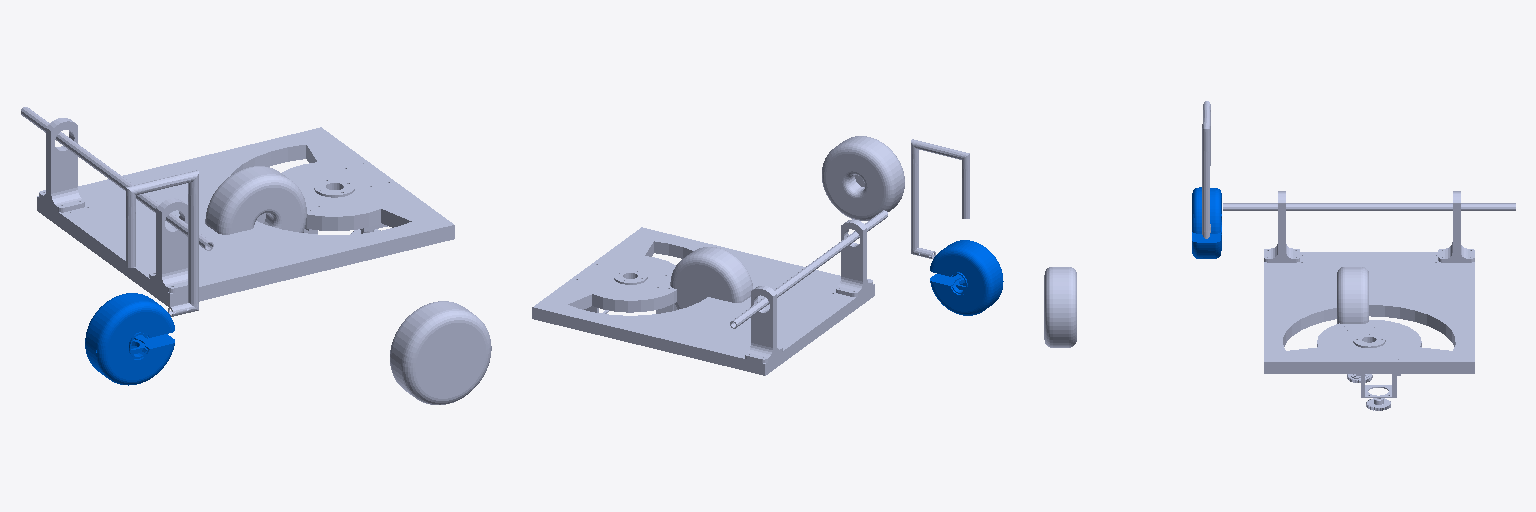
The robot description file, URDF, robot "Tricycle_HEW_URDF":
<?xml version="1.0" encoding="utf-8"?>
<!-- This URDF was automatically created by SolidWorks to URDF Exporter! Originally created by [author] ([email redacted]) 
     Commit Version: 1.5.1-0-g916b5db  Build Version: 1.5.7152.31018
     For more information, please see http://wiki.ros.org/sw_urdf_exporter -->
<robot
  name="Tricycle_HEW_URDF">
  <link
    name="base_link">
    <inertial>
      <origin
        xyz="0.0179147475198466 0.00819042349452611 -5.19073115833841E-05"
        rpy="0 0 0" />
      <mass
        value="2.40036266027336" />
      <inertia
        ixx="0.0213869024496027"
        ixy="1.89991849092823E-09"
        ixz="1.44203262798969E-06"
        iyy="0.0542879227223958"
        iyz="1.97467103185079E-08"
        izz="0.0333136909388032" />
    </inertial>
    <visual>
      <origin
        xyz="0 0 0"
        rpy="0 0 0" />
      <geometry>
        <mesh
          filename="package://Tricycle_HEW_URDF/meshes/base_link.STL" />
      </geometry>
      <material
        name="">
        <color
          rgba="0.792156862745098 0.819607843137255 0.933333333333333 1" />
      </material>
    </visual>
    <collision>
      <origin
        xyz="0 0 0"
        rpy="0 0 0" />
      <geometry>
        <mesh
          filename="package://Tricycle_HEW_URDF/meshes/base_link_col.STL" />
      </geometry>
    </collision>
  </link>
  <link
    name="Arm_Link">
    <inertial>
      <origin
        xyz="0.055393 -0.00046808 0.050229"
        rpy="0 0 0" />
      <mass
        value="0.021131" />
      <inertia
        ixx="7.7995E-05"
        ixy="2.6771E-07"
        ixz="1.8645E-05"
        iyy="0.00010972"
        iyz="-1.5689E-07"
        izz="3.2398E-05" />
    </inertial>
    <visual>
      <origin
        xyz="0 0 0"
        rpy="0 0 0" />
      <geometry>
        <mesh
          filename="package://Tricycle_HEW_URDF/meshes/Arm_Link.STL" />
      </geometry>
      <material
        name="">
        <color
          rgba="0.79216 0.81961 0.93333 1" />
      </material>
    </visual>
    <collision>
      <origin
        xyz="0 0 0"
        rpy="0 0 0" />
      <geometry>
        <mesh
          filename="package://Tricycle_HEW_URDF/meshes/Arm_Link_col.STL" />
      </geometry>
    </collision>
  </link>
  <joint
    name="Arm_Link_cont"
    type="revolute">
    <origin
      xyz="-0.127 0 -0.0015679"
      rpy="0 0 0" />
    <parent
      link="base_link" />
    <child
      link="Arm_Link" />
    <axis
      xyz="0 0 -1" />
    <limit
      lower="1.745"
      upper="-1.745"
      effort="0"
      velocity="20" />
  </joint>
  <link
    name="Rear_Wheels_Link">
    <inertial>
      <origin
        xyz="2.6923E-15 -7.3355E-17 1.707E-15"
        rpy="0 0 0" />
      <mass
        value="1.1992" />
      <inertia
        ixx="0.001439"
        ixy="-1.7333E-20"
        ixz="-5.5793E-20"
        iyy="0.0023958"
        iyz="1.8973E-20"
        izz="0.001439" />
    </inertial>
    <visual>
      <origin
        xyz="0 0 0"
        rpy="0 0 0" />
      <geometry>
        <mesh
          filename="package://Tricycle_HEW_URDF/meshes/Rear_Wheels_Link.STL" />
      </geometry>
      <material
        name="">
        <color
          rgba="0.79216 0.81961 0.93333 1" />
      </material>
    </visual>
    <collision>
      <origin
        xyz="0 0 0"
        rpy="0 0 0" />
      <geometry>
        <mesh
          filename="package://Tricycle_HEW_URDF/meshes/Rear_Wheels_Link_col.STL" />
      </geometry>
    </collision>
  </link>
  <joint
    name="Rear_Wheels_cont"
    type="continuous">
    <origin
      xyz="0.18415 0 -0.08635"
      rpy="0 0 0" />
    <parent
      link="base_link" />
    <child
      link="Rear_Wheels_Link" />
    <axis
      xyz="0 1 0" />
  </joint>
  <link
    name="Front_Wheel">
    <inertial>
      <origin
        xyz="-0.003311 1.0195E-06 0.0033365"
        rpy="0 0 0" />
      <mass
        value="0.33388" />
      <inertia
        ixx="0.00011765"
        ixy="4.0231E-12"
        ixz="3.047E-06"
        iyy="0.00033015"
        iyz="3.8519E-10"
        izz="0.00033254" />
    </inertial>
    <visual>
      <origin
        xyz="0 0 0"
        rpy="0 0 0" />
      <geometry>
        <mesh
          filename="package://Tricycle_HEW_URDF/meshes/Front_Wheel.STL" />
      </geometry>
      <material
        name="">
        <color
          rgba="0 0.45098 0.93725 1" />
      </material>
    </visual>
    <collision>
      <origin
        xyz="0 0 0"
        rpy="0 0 0" />
      <geometry>
        <mesh
          filename="package://Tricycle_HEW_URDF/meshes/Front_Wheel_col.STL" />
      </geometry>
    </collision>
  </link>
  <joint
    name="Front_Wheel_Cont"
    type="continuous">
    <origin
      xyz="-0.127 0 -0.086868"
      rpy="0 0 -0.0084418" />
    <parent
      link="base_link" />
    <child
      link="Front_Wheel" />
    <axis
      xyz="-1 0 0" />
  </joint>
</robot>

--- What the picture shows (computed from the rendered views, not written in the file) ---
3 views of the same robot in one strip: view 1: azimuth 30°, elevation 25°; view 2: azimuth 150°, elevation 25°; view 3: azimuth 270°, elevation 25° (orthographic).
Model Tricycle_HEW_URDF with 4 links and 3 joints (1 revolute, 2 continuous), rooted at base_link, posed every joint at zero.
Visible links, largest first — view 1: base_link, Rear_Wheels_Link, Front_Wheel, Arm_Link; view 2: base_link, Rear_Wheels_Link, Front_Wheel, Arm_Link; view 3: base_link, Rear_Wheels_Link, Front_Wheel, Arm_Link.
Link boxes in pixels (x1,y1,x2,y2): base_link: [21, 107, 454, 306]; Rear_Wheels_Link: [205, 166, 491, 404]; Front_Wheel: [85, 293, 174, 385]; Arm_Link: [126, 170, 198, 316]; base_link: [532, 210, 887, 375]; Rear_Wheels_Link: [670, 136, 904, 309]; Front_Wheel: [930, 240, 1003, 315]; Arm_Link: [911, 139, 969, 258]; base_link: [1223, 191, 1515, 410]; Rear_Wheels_Link: [1044, 267, 1368, 347]; Front_Wheel: [1192, 187, 1221, 258]; Arm_Link: [1202, 101, 1210, 238].
Bounding box of the posed robot: 0.571 × 0.7366 × 0.2967 m (x, y, z).
Meshes: 4 distinct files referenced, 4 mesh visuals loaded (4 binary STL).